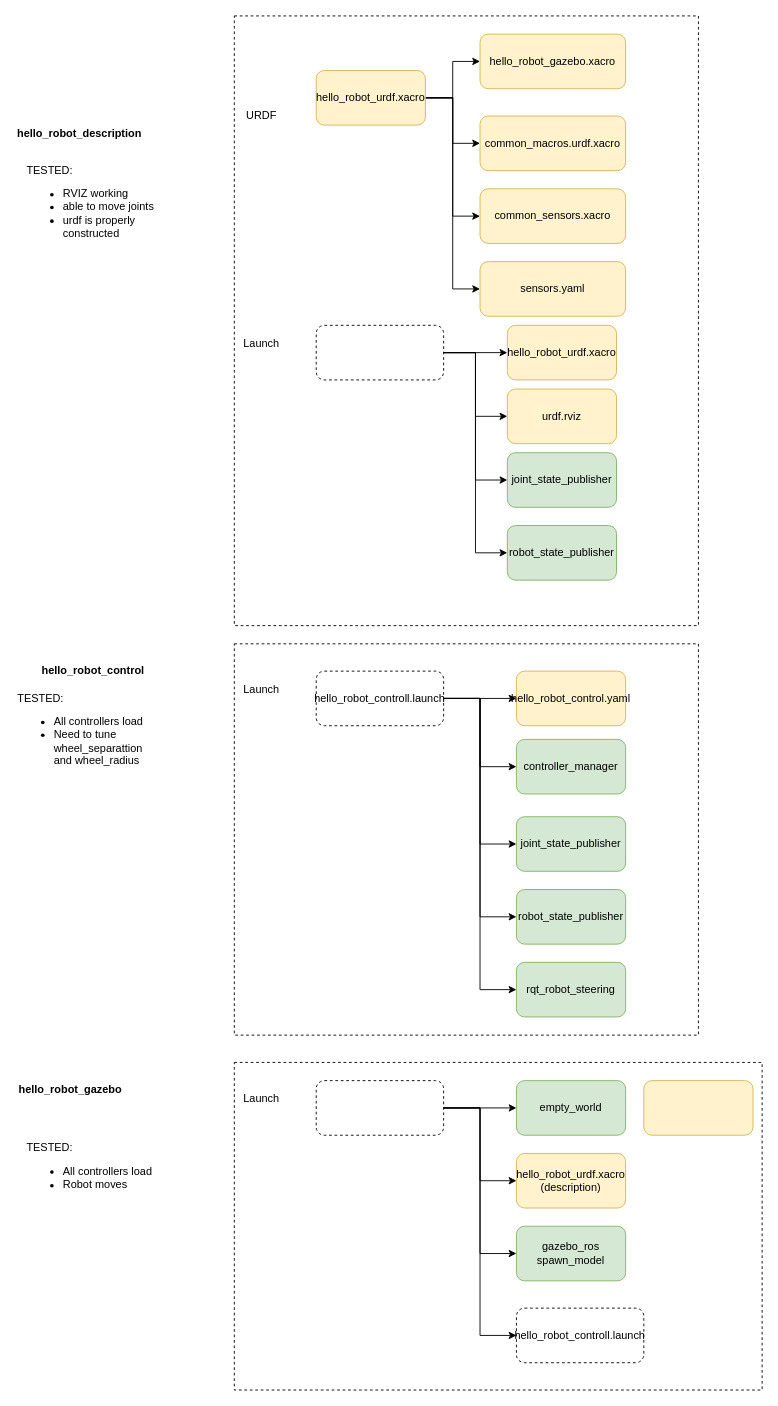
Image size: 778x1406. Some labels were removed from this diagram. The shapes that lost their labels are listed below. From the top down, each one's centre as x and y in pixels, then its label:
At [379,352]: "hello_robot_rviz.launch".
At [379,1107]: "hello_robot_world.launch".
At [698,1107]: "turtlebot3_world".
